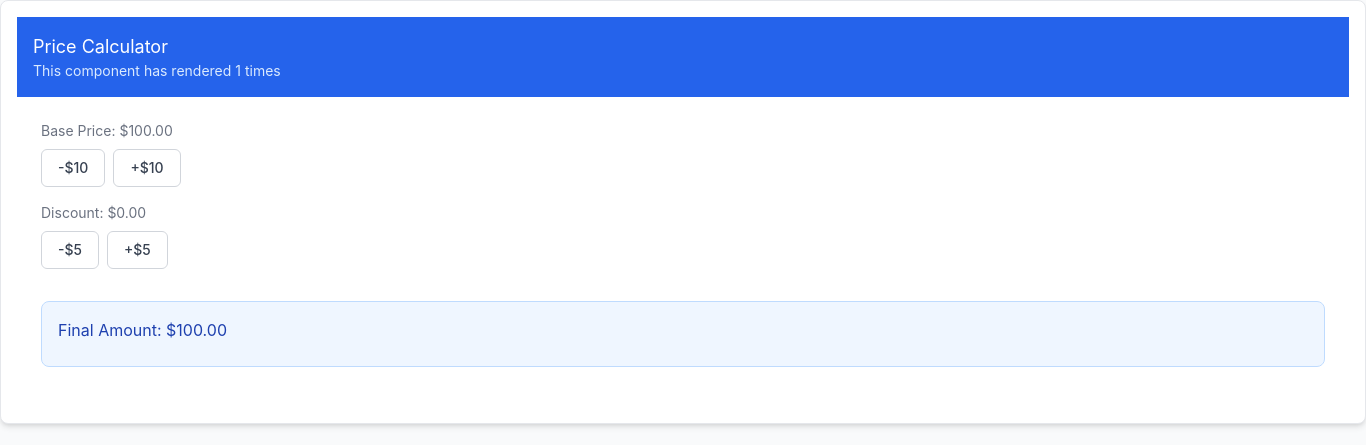
PriceCalculator › correctly calculates final amount with price and discount changes
The width and height of the screenshot is (1366, 445).
// Increase price and discount
Click the button "+$10" at (147, 168), box left=113, top=149, right=181, bottom=187
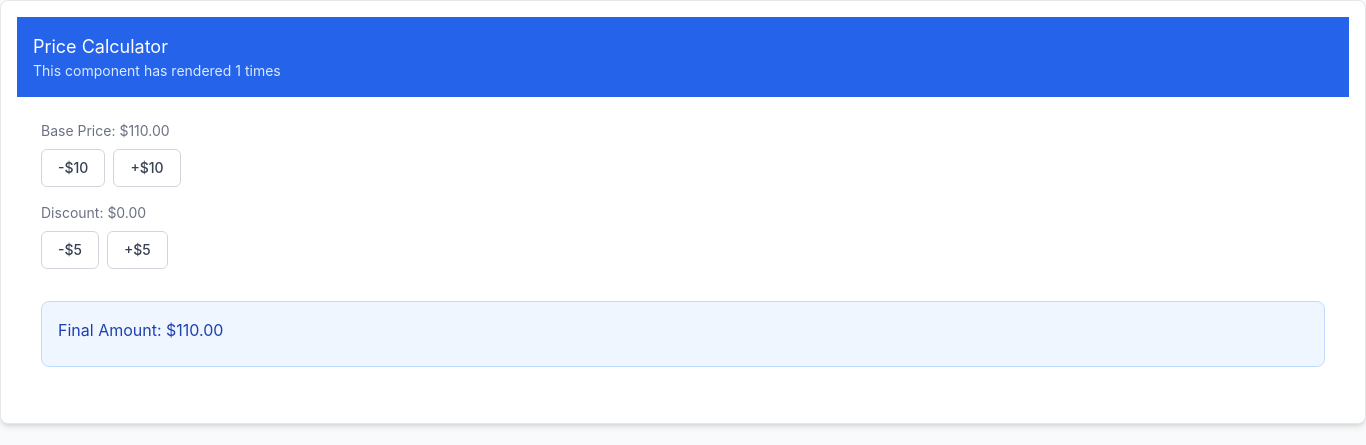
Click the button "+$5" at (137, 250), box left=107, top=231, right=168, bottom=269
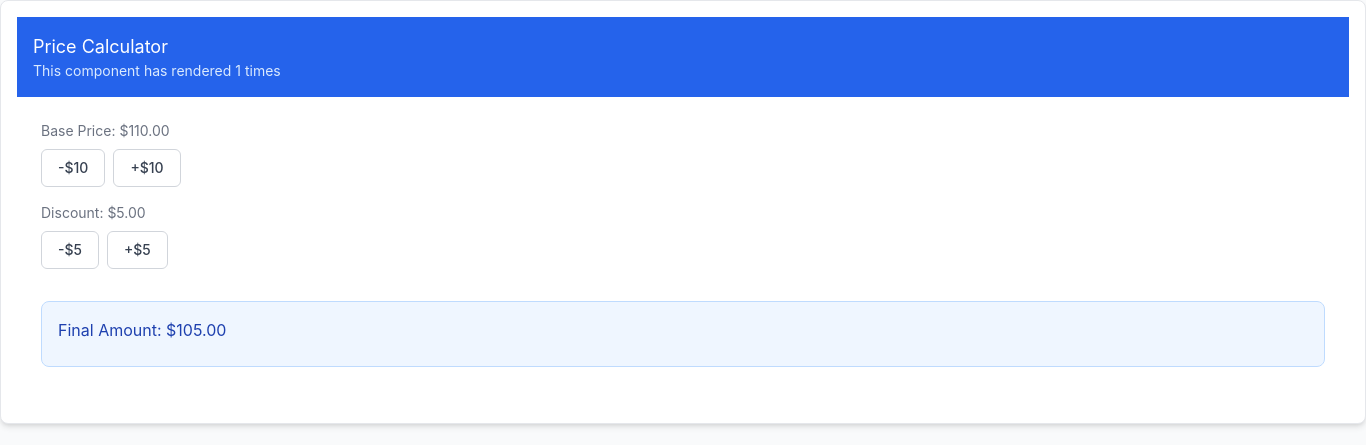
Result: the text "Base Price: $110.00" is shown at left=41, top=122, right=170, bottom=139
Result: the text "Discount: $5.00" is shown at left=41, top=204, right=146, bottom=221
Result: the heading "Final Amount: $105.00" is shown at left=58, top=320, right=226, bottom=340
